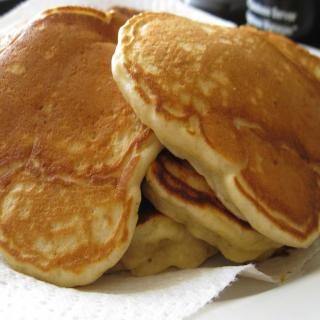Pancake: (110, 11, 320, 262), (0, 6, 163, 284)
